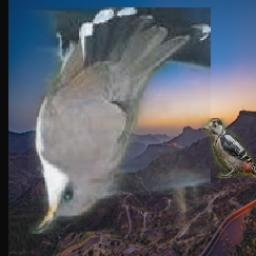Cuckoo: (29, 8, 212, 235)
Woodpecker: (201, 119, 256, 179)
